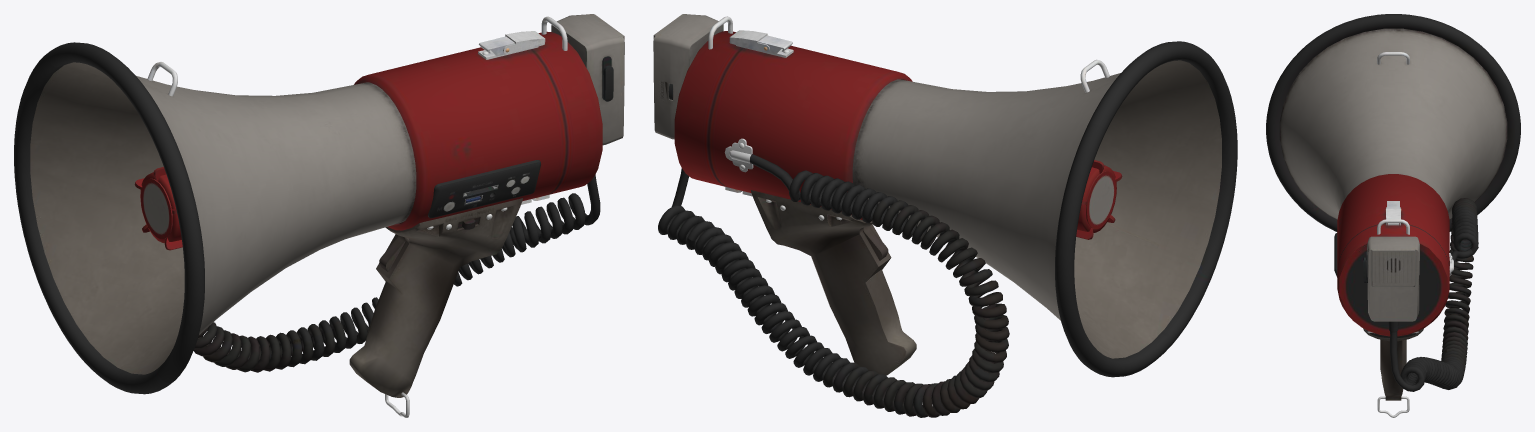
Rendered from Megaphone_01_1k.glb.
The picture shows the model from 3 angles, left to right: view 1: azimuth 30°, elevation 25°; view 2: azimuth 150°, elevation 25°; view 3: azimuth 270°, elevation 25°; orthographic projection. The views are drawn at different scales.
Parts seen in each view (by area): view 1: Megaphone_01; view 2: Megaphone_01; view 3: Megaphone_01.
Boxes of the visible parts, x1,y1,x2,y2 form: Megaphone_01: (14,14,624,417); Megaphone_01: (653,14,1237,417); Megaphone_01: (1266,14,1520,417).
Bounding box in the file's own units: 0.3707 × 0.3001 × 0.2285.
Materials: 1 (1 with a texture image).
